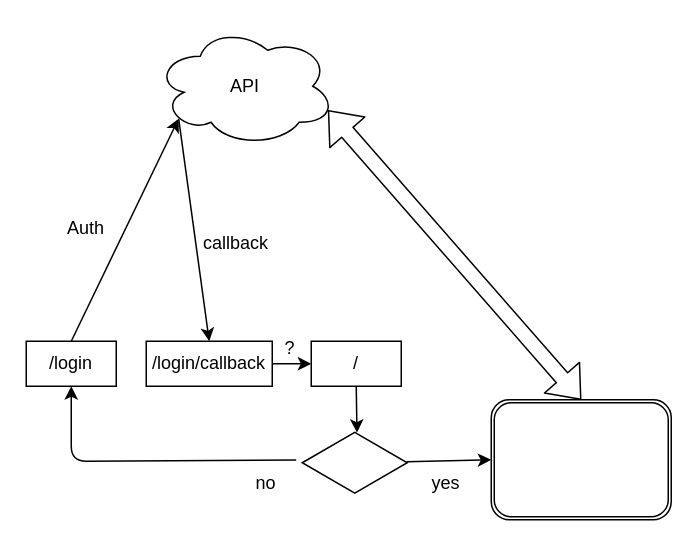
The diagram is 698 pixels wide and 546 high, and some of its shapes have lost their labels. Each missing label, with the centre of its shape:
APP: pixel 580 459
logged?: pixel 354 462
